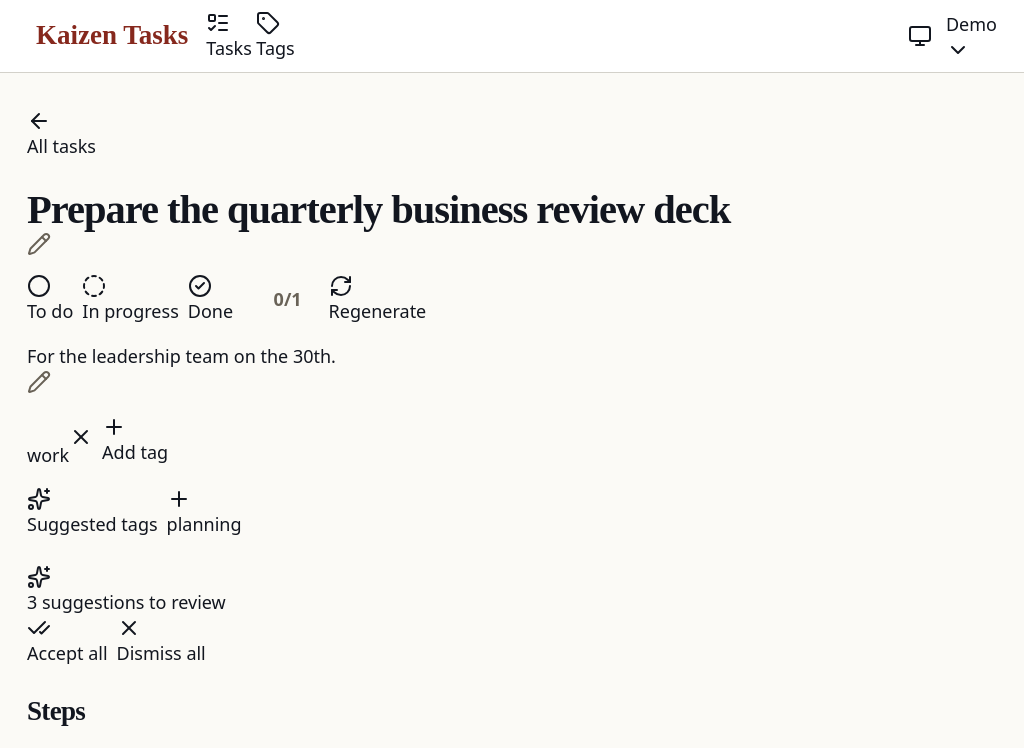
Scenario: tags on the task › adopting an AI tag suggestion creates the tag and replaces the set
What coordinates should you click on to do the following:
click the button with aria-label "Add tag planning"
I would click on:
 (204, 512)
Its box is [167,486,242,538].
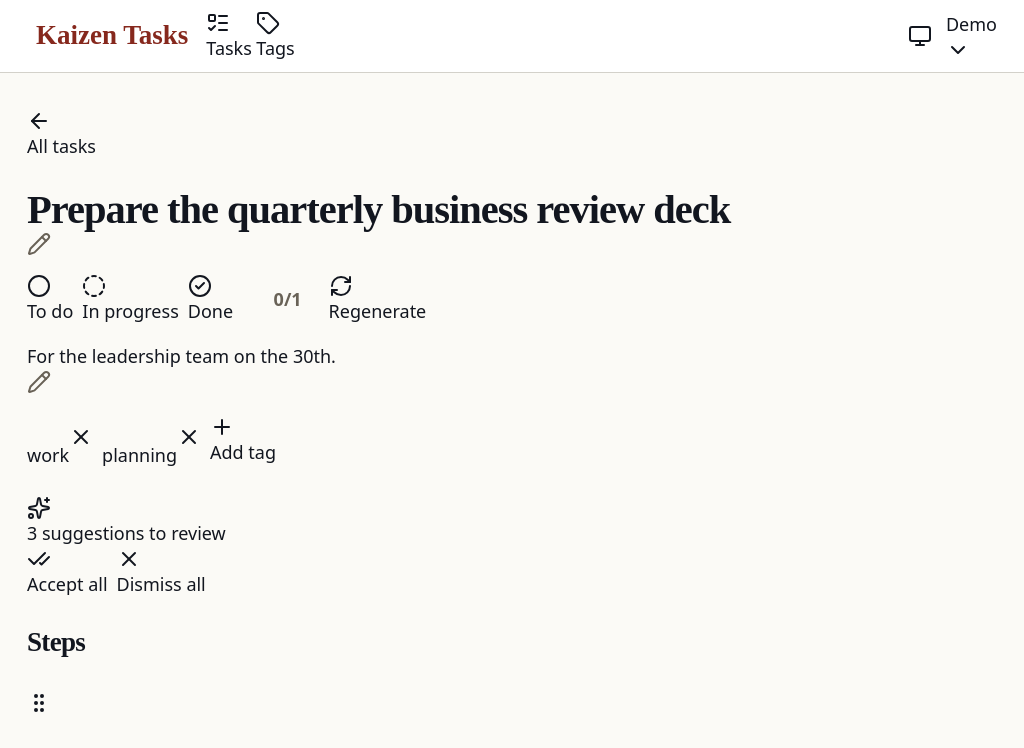
Result: the text "planning" is shown at [102,412,201,468]
